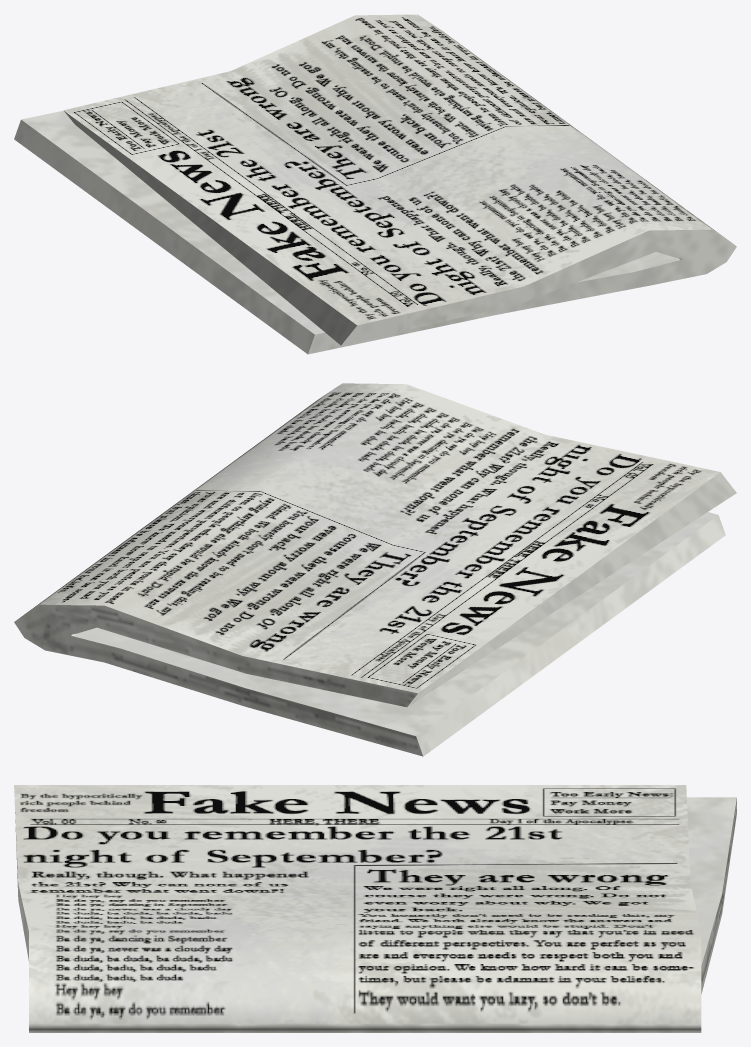
File: Prop_Newspaper_01.fbx
3 views of the same model, one above another, from view 1: azimuth 30°, elevation 25°; view 2: azimuth 150°, elevation 25°; view 3: azimuth 270°, elevation 25° (orthographic). The views are drawn at different scales.
Parts seen in each view (by area): view 1: Prop_Newspaper_01; view 2: Prop_Newspaper_01; view 3: Prop_Newspaper_01.
Part boxes in pixels (x1=…): Prop_Newspaper_01: x1=14, y1=14, x2=736, y2=354; Prop_Newspaper_01: x1=14, y1=383, x2=736, y2=756; Prop_Newspaper_01: x1=14, y1=785, x2=736, y2=1032.
Size of the model in its own units: 24.55 by 3.27 by 32.51.
